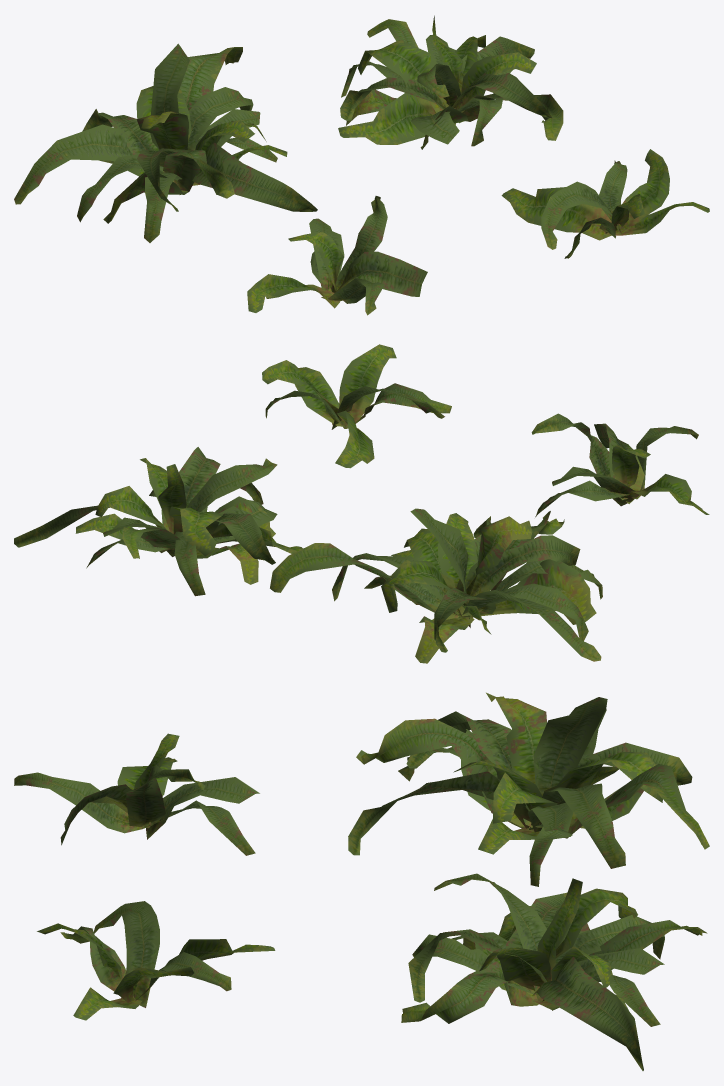
File: fern_02.glb
The picture shows the model from 3 angles, top to bottom: view 1: azimuth 30°, elevation 25°; view 2: azimuth 150°, elevation 25°; view 3: azimuth 270°, elevation 25°; orthographic projection. The views are drawn at different scales.
Parts seen in each view (by area): view 1: fern_02_b, fern_02_c, fern_02_d, fern_02_a; view 2: fern_02_b, fern_02_c, fern_02_d, fern_02_a; view 3: fern_02_b, fern_02_c, fern_02_a, fern_02_d.
Boxes of the visible parts, x1,y1,x2,y2 form: fern_02_b: (14,43,317,242); fern_02_c: (338,15,563,149); fern_02_d: (501,149,709,258); fern_02_a: (247,196,427,315); fern_02_b: (270,508,602,663); fern_02_c: (14,447,302,596); fern_02_d: (262,344,451,468); fern_02_a: (531,413,709,517); fern_02_b: (348,692,709,886); fern_02_c: (401,873,707,1070); fern_02_a: (14,733,259,855); fern_02_d: (37,901,275,1020).
Bounding box in the file's own units: 1.97 × 0.4277 × 1.72.
Materials: 1 (1 with a texture image).
